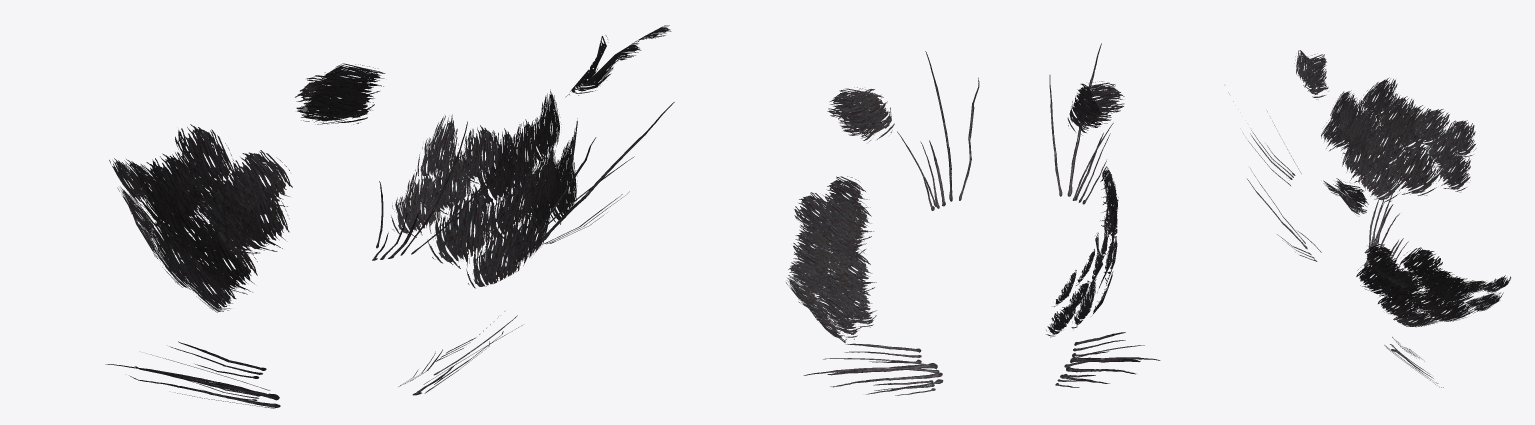
Rendered from cat_black__material_93.obj.
The picture shows the model from 3 angles, left to right: view 1: azimuth 30°, elevation 25°; view 2: azimuth 150°, elevation 25°; view 3: azimuth 270°, elevation 25°; orthographic projection. The views are drawn at different scales.
Parts seen in each view (by area): view 1: Export_sk_player_cat_lod0_Material_#93_0; view 2: Export_sk_player_cat_lod0_Material_#93_0; view 3: Export_sk_player_cat_lod0_Material_#93_0.
Part boxes in pixels (x1,y1,x2,y2): Export_sk_player_cat_lod0_Material_#93_0: (105, 25, 674, 408); Export_sk_player_cat_lod0_Material_#93_0: (786, 43, 1160, 395); Export_sk_player_cat_lod0_Material_#93_0: (1228, 50, 1510, 387).
Size of the model in its own units: 4.34 by 3.33 by 3.26.
Materials: 1 (1 with a texture image).
